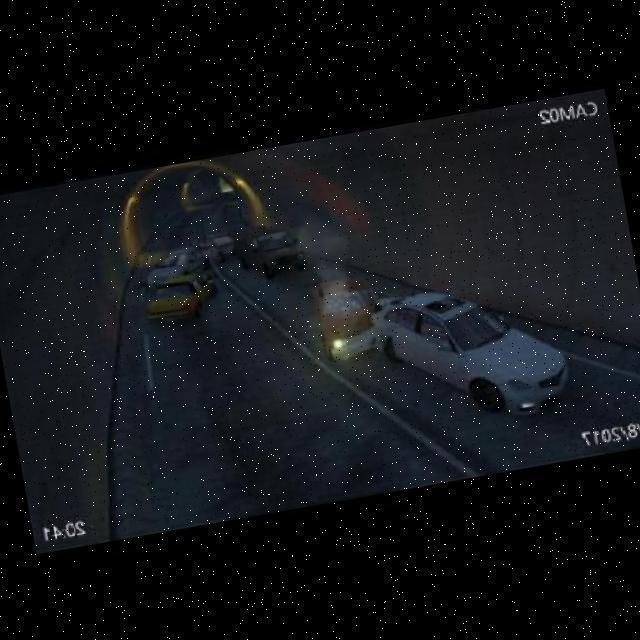accident: (302, 235, 577, 450)
